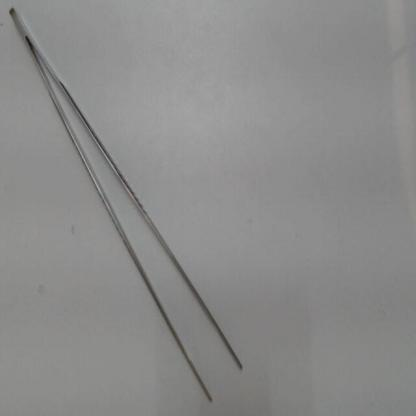DeBakey Dissector: (4, 2, 266, 406)
